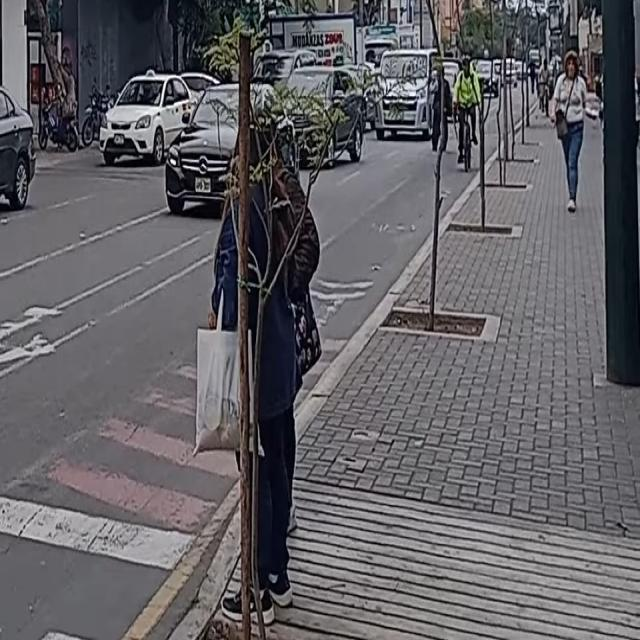car: (165, 81, 298, 219), (100, 73, 198, 162), (281, 66, 365, 166), (372, 47, 444, 140), (0, 77, 37, 226), (473, 59, 501, 96)
